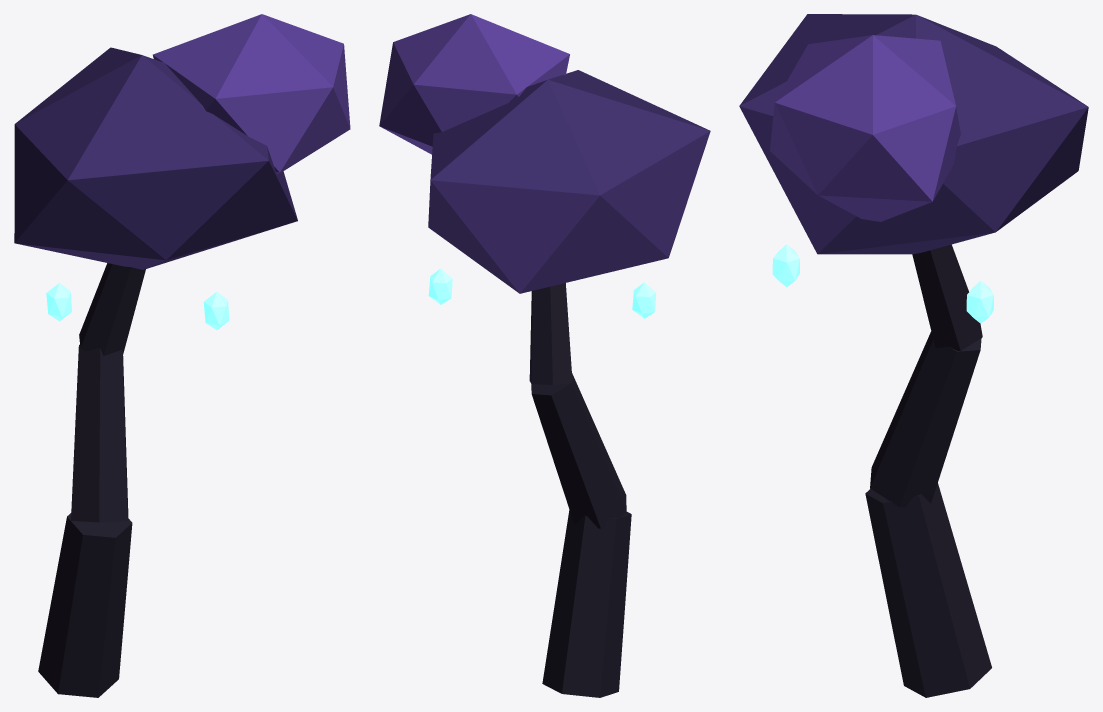
File: twisted_tree.glb
3 views of the same model, side by side, from view 1: azimuth 30°, elevation 25°; view 2: azimuth 150°, elevation 25°; view 3: azimuth 270°, elevation 25° (orthographic). The views are drawn at different scales.
Parts seen in each view (by area): view 1: twisted_tree; view 2: twisted_tree; view 3: twisted_tree.
Part boxes in pixels (x1=…): twisted_tree: x1=14, y1=14, x2=350, y2=697; twisted_tree: x1=379, y1=14, x2=710, y2=697; twisted_tree: x1=739, y1=14, x2=1088, y2=697.
Bounding box in the file's own units: 3.7 × 7.5 × 3.24.
